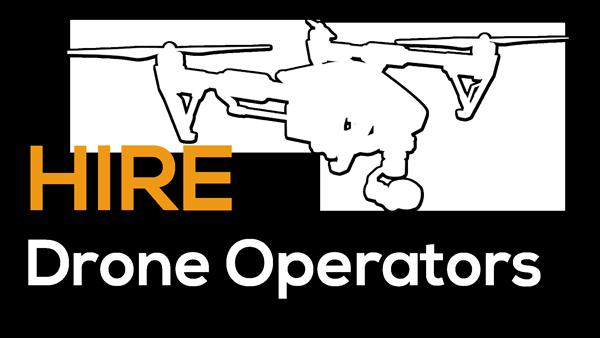drone: (55, 22, 578, 165)
